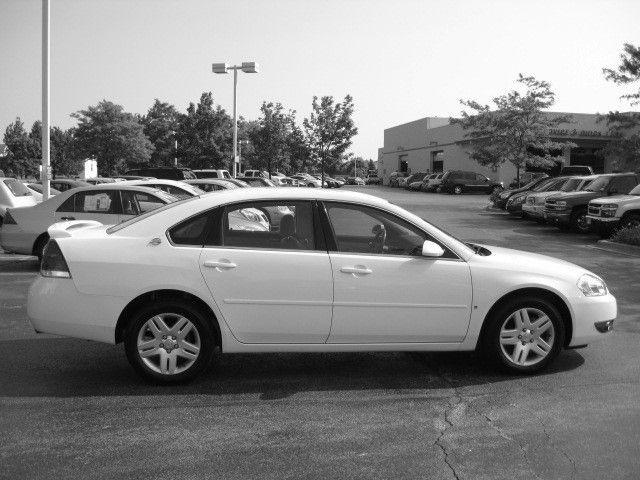car: (25, 189, 617, 386)
